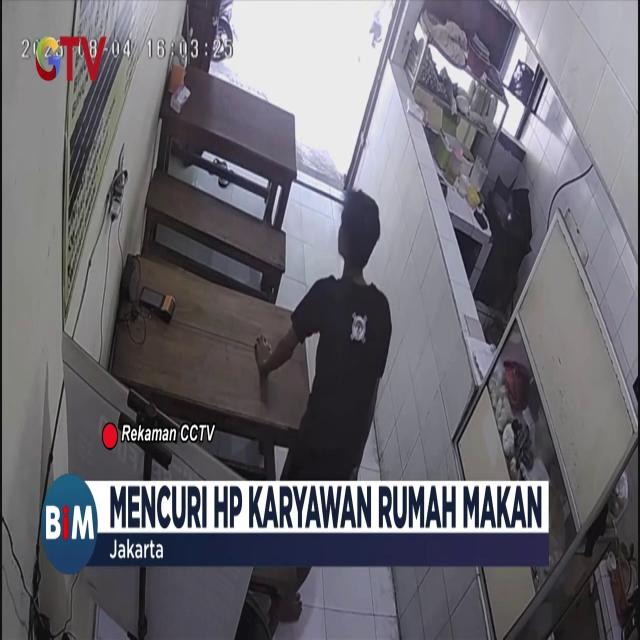normal: (252, 188, 392, 474)
